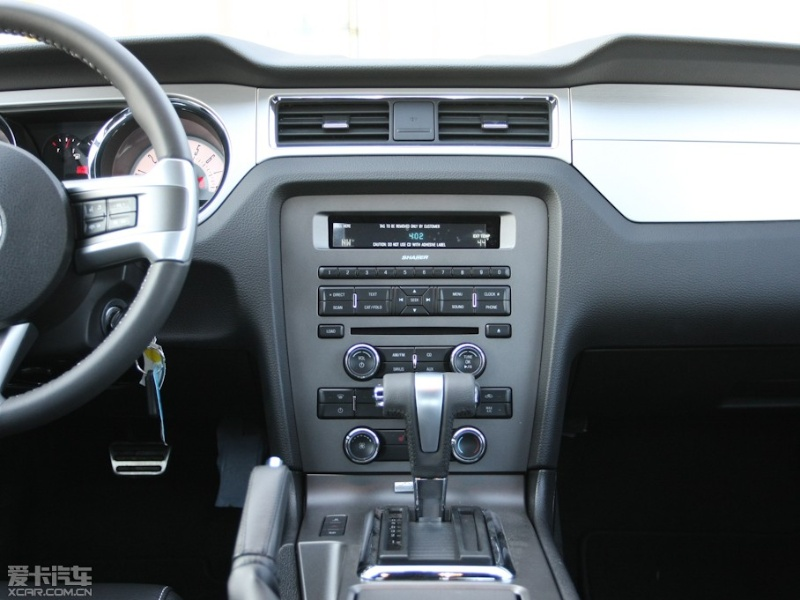control_center: (261, 61, 574, 376)
gear_lever: (234, 366, 517, 581)
odometer: (6, 89, 238, 206)
steering_wheel: (1, 13, 238, 472)
